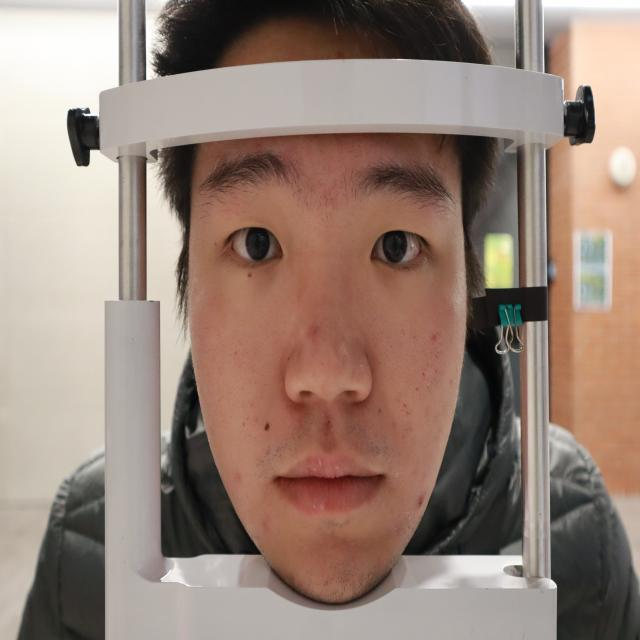eye: (218, 219, 293, 278), (360, 218, 436, 276)
gaze: (380, 229, 408, 265), (246, 228, 270, 260)
